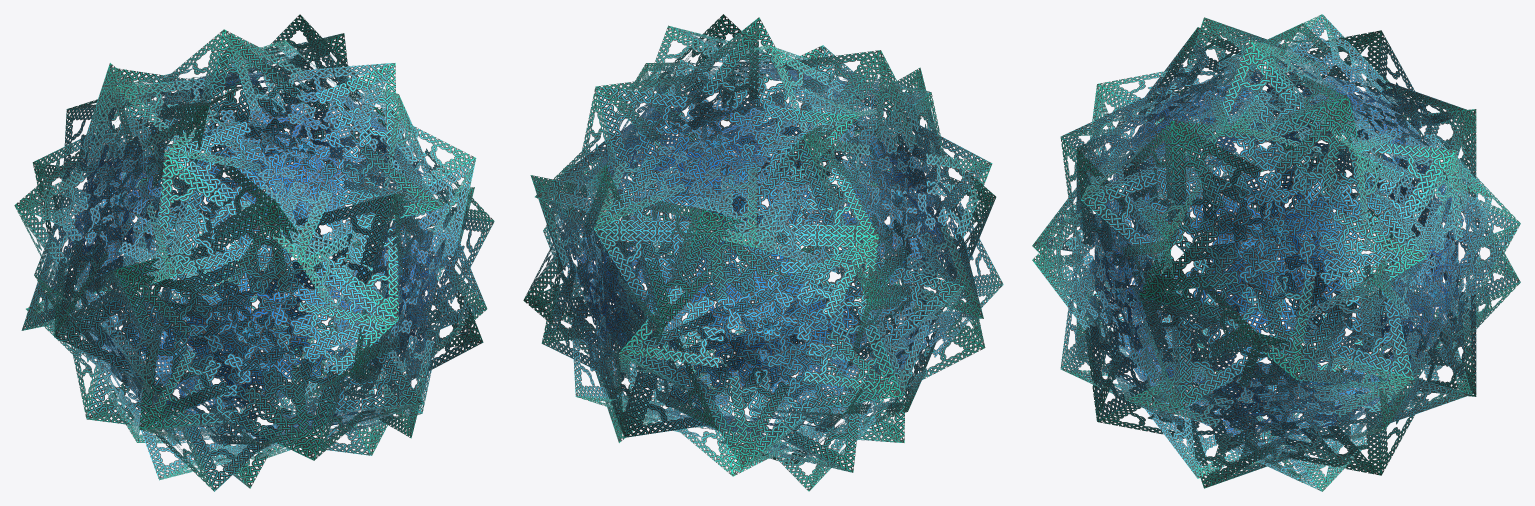
The model's file is 17InvertedSnubDodecadodecahedron.gltf.
3 renders of one model, left to right at view 1: azimuth 30°, elevation 25°; view 2: azimuth 150°, elevation 25°; view 3: azimuth 270°, elevation 25°, orthographic.
Parts seen in each view (by area): view 1: 16InvertedSnubDodecadodecahedron; view 2: 16InvertedSnubDodecadodecahedron; view 3: 16InvertedSnubDodecadodecahedron.
Boxes of the visible parts, box(x1,y1,x2,y2) form: 16InvertedSnubDodecadodecahedron: box(14, 14, 494, 491); 16InvertedSnubDodecadodecahedron: box(523, 14, 1003, 491); 16InvertedSnubDodecadodecahedron: box(1032, 14, 1520, 491).
Bounding box in the file's own units: 1.69 × 1.69 × 1.69.
1 material, 1 textured.
